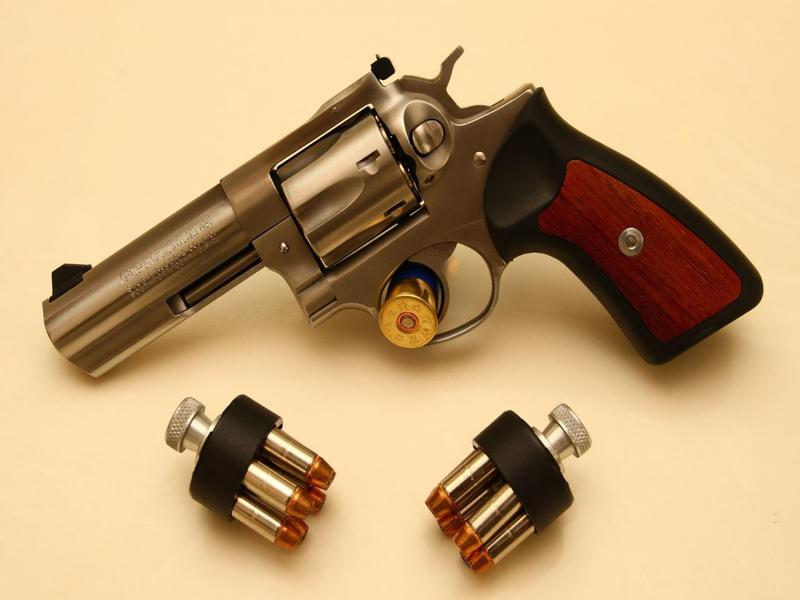Revolver: (29, 43, 793, 394)
